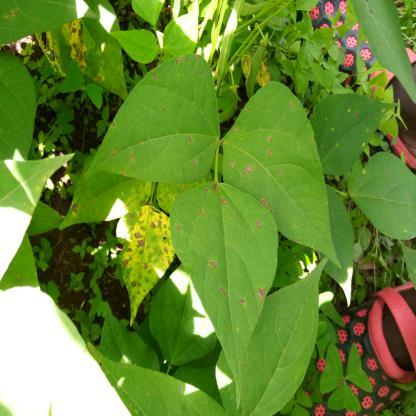Beans_Angular_LeafSpot: (169, 178, 280, 380), (220, 86, 328, 258), (89, 51, 222, 189), (104, 208, 188, 322), (56, 190, 86, 226)
